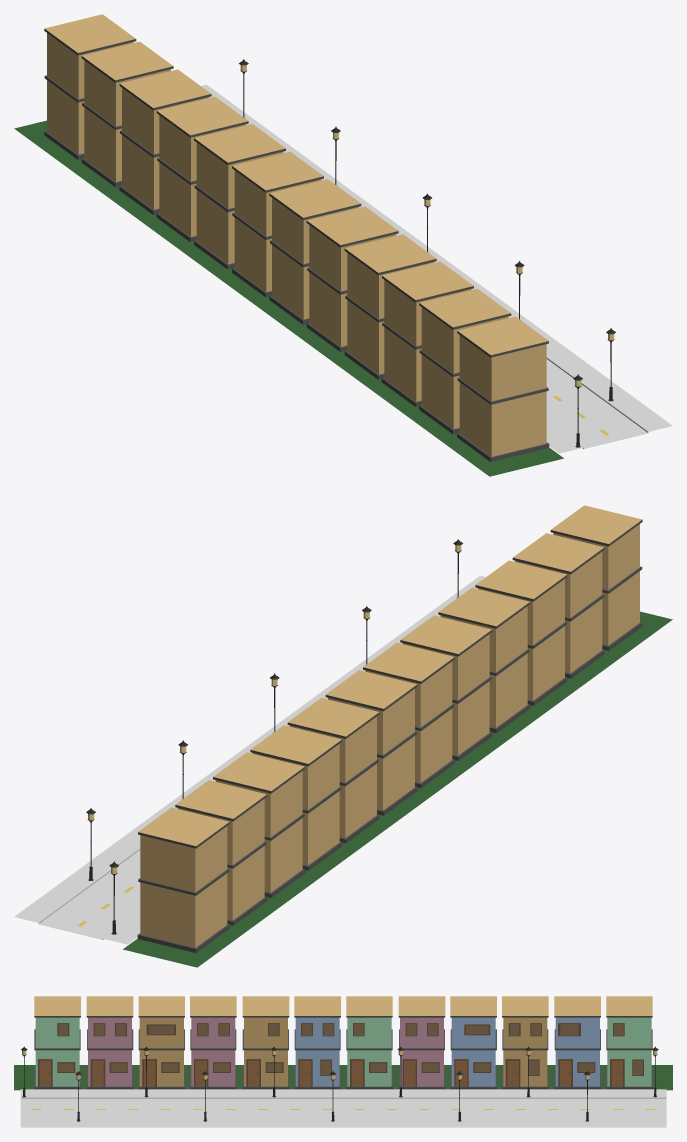
Rendered from Street_Scene 1.fbx.
3 renders of one model, top to bottom at view 1: azimuth 30°, elevation 25°; view 2: azimuth 150°, elevation 25°; view 3: azimuth 270°, elevation 25°, orthographic. The views are drawn at different scales.
Visible parts, largest first — view 1: Cube, Plane.001, Plane; view 2: Cube, Plane.001, Plane; view 3: Cube, Plane, Plane.001.
Part boxes in pixels (<box>): Cube: <box>14,14,563,476</box>; Plane.001: <box>201,84,672,453</box>; Plane: <box>546,359,647,448</box>; Cube: <box>123,505,672,967</box>; Plane.001: <box>14,575,485,944</box>; Plane: <box>39,850,140,939</box>; Cube: <box>14,996,672,1090</box>; Plane: <box>20,1098,666,1119</box>; Plane.001: <box>20,1089,666,1127</box>.
Bounding box in the file's own units: 3550 × 1929 × 15559.
